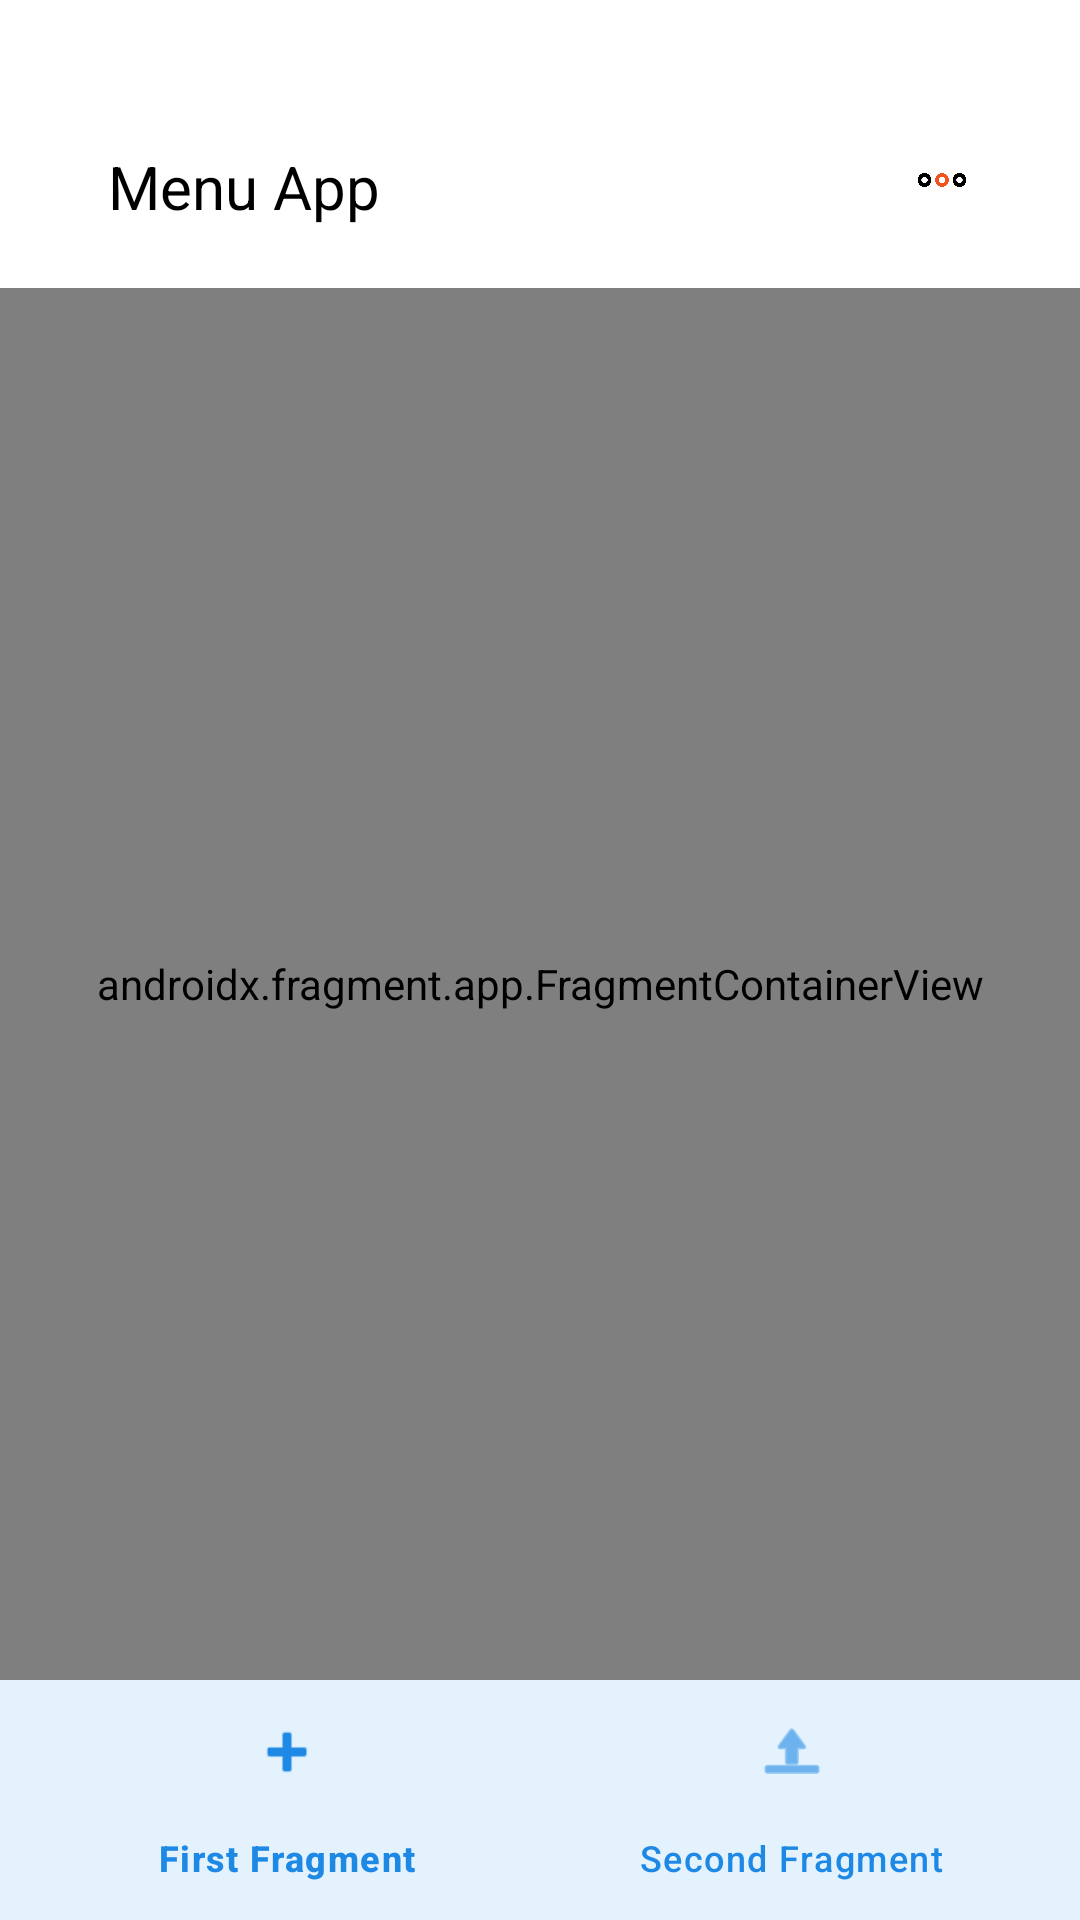

Screen size 1080x1920. Icon name, then its box in pixels as [x1,y1,x2,y2]:
option: [918,173,966,187]
